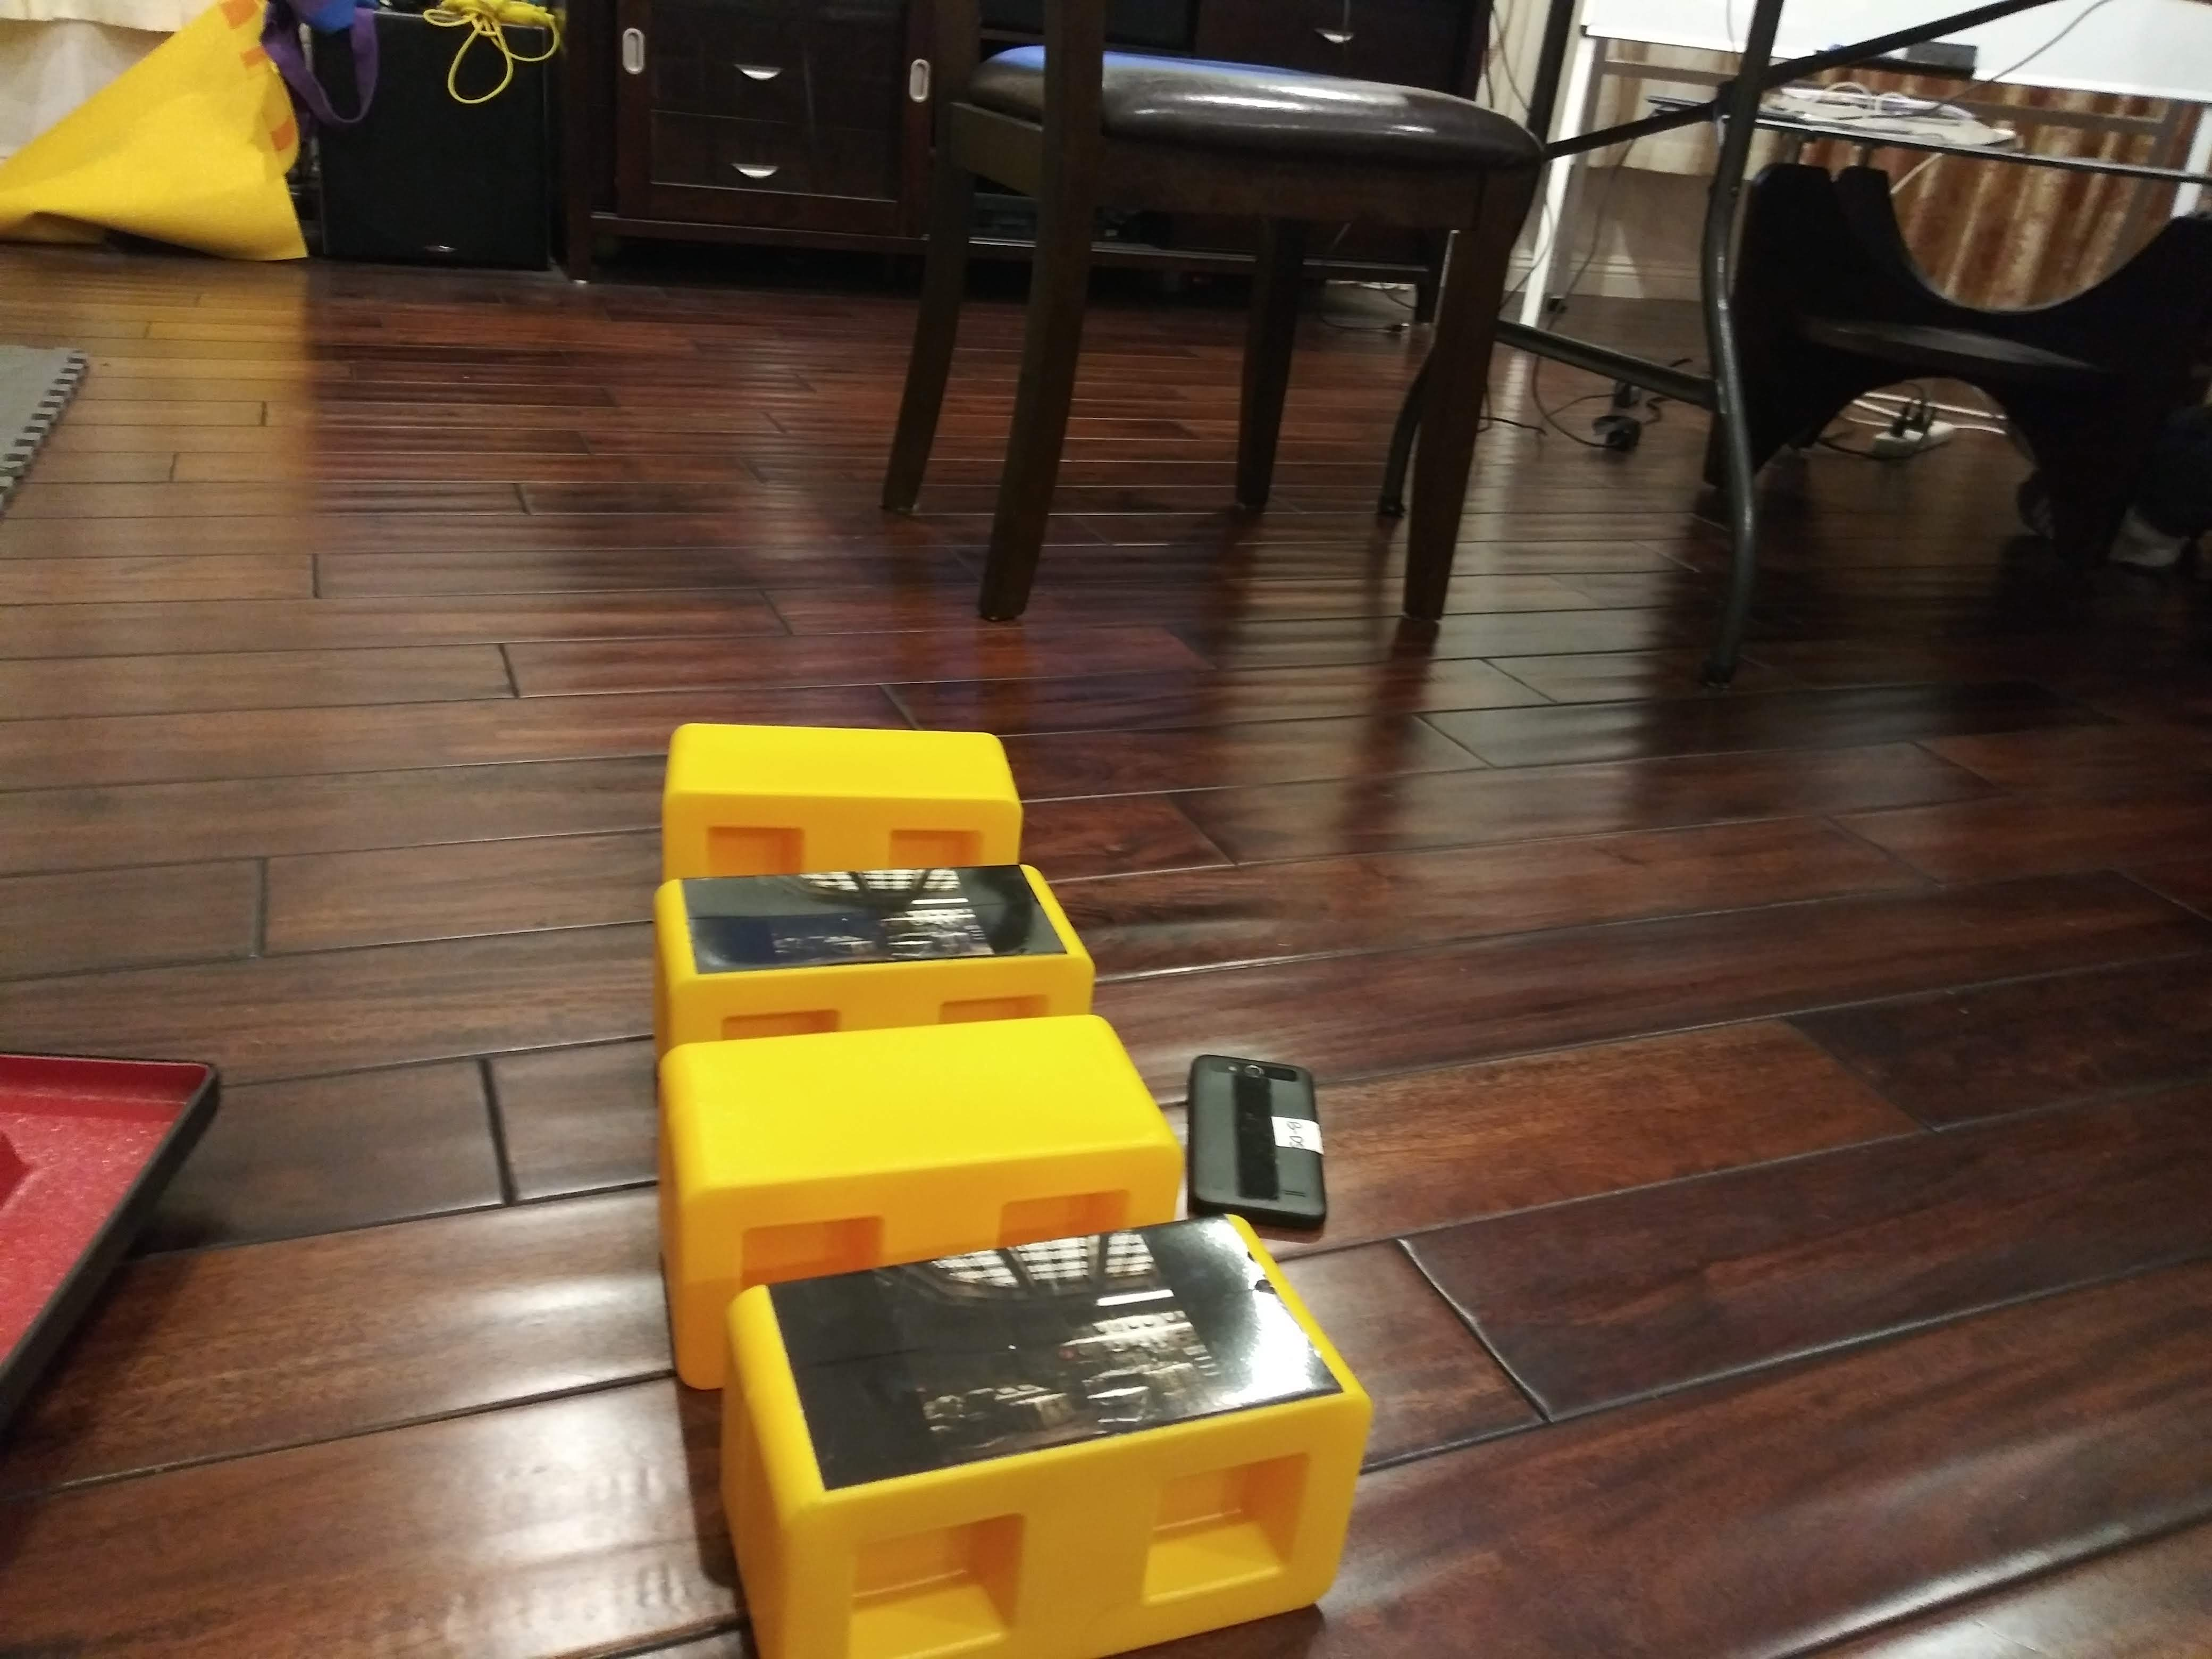skystone: (714, 1248, 1331, 1551), (644, 884, 1097, 1011)
stone: (651, 1047, 1174, 1223), (662, 728, 1035, 857)
